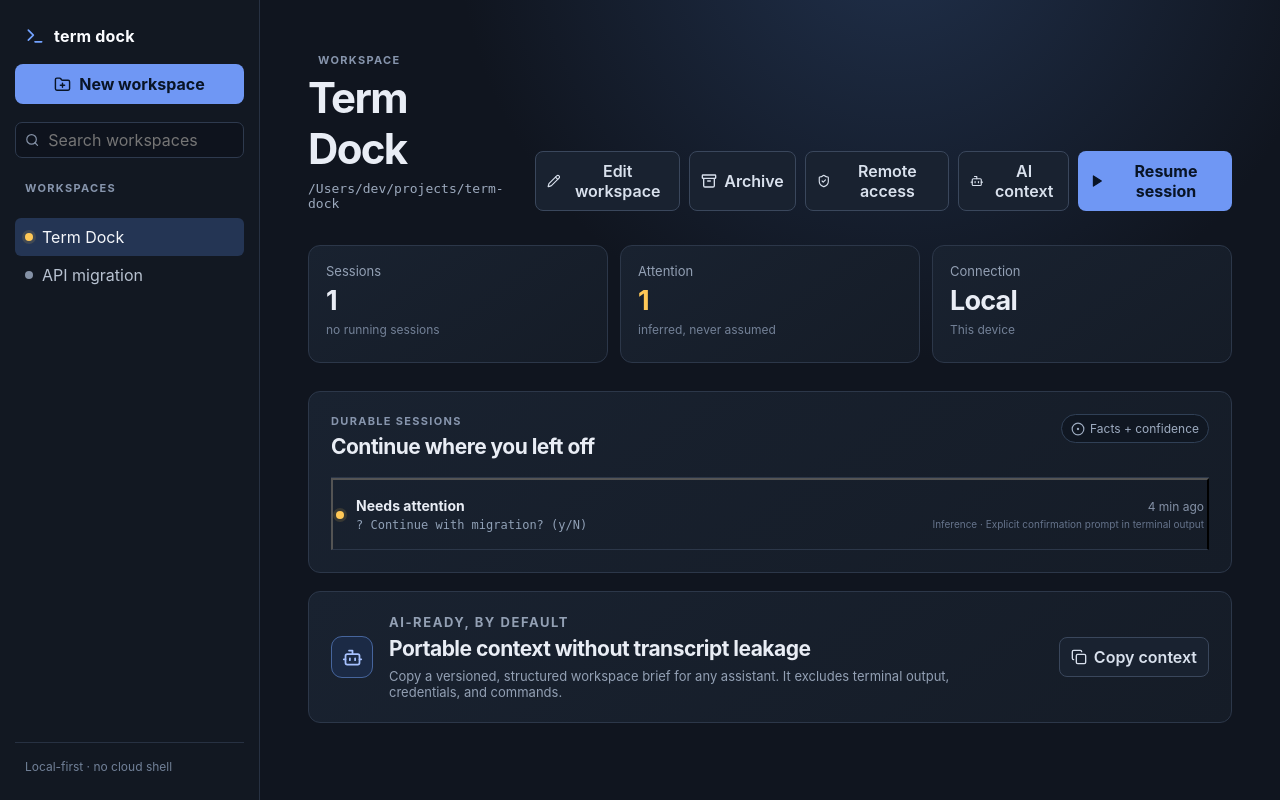
Test case: workspace dashboard › creates a workspace in the browser preview
Expected: the heading "Term Dock" is shown, [308,72,407,174]
Click the button "New workspace" at coordinates (130, 84), box [15,64,244,104]
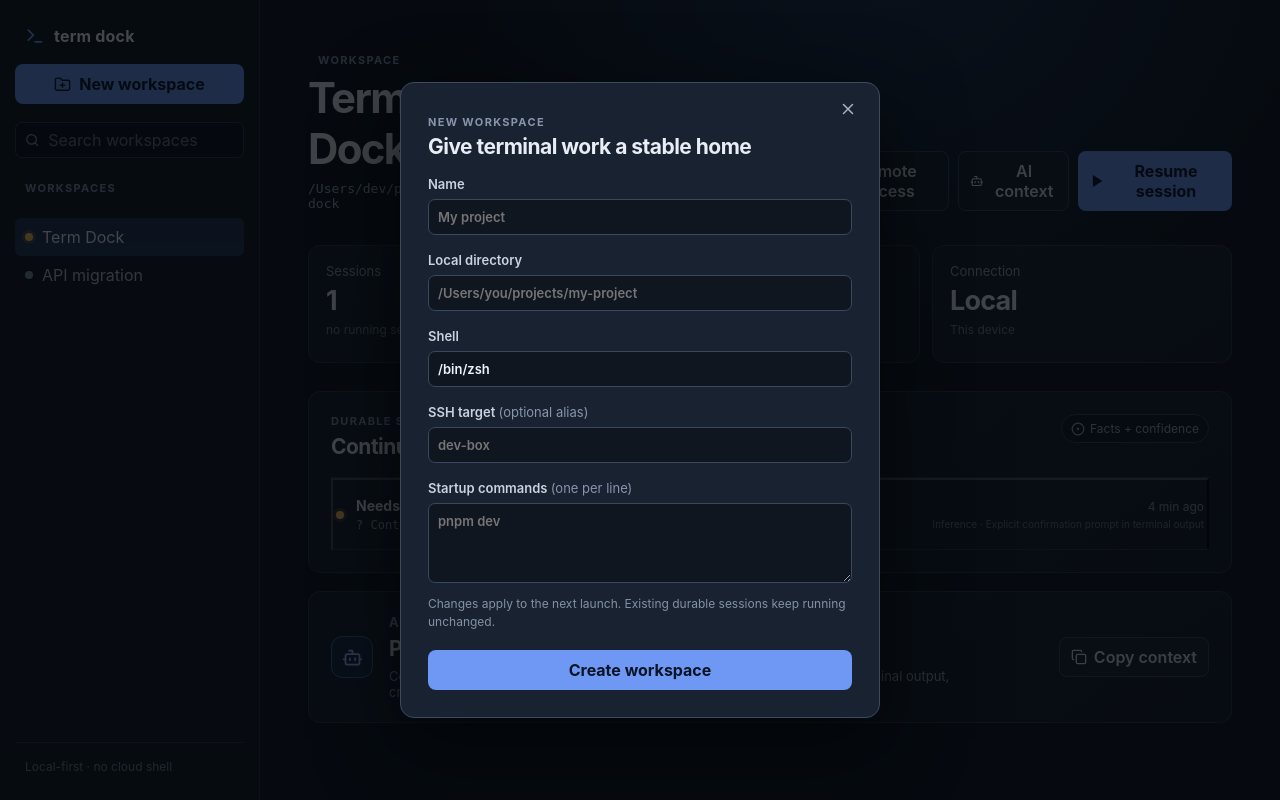
Type "Notes" into the field labelled "Name" at coordinates (640, 217), box [428,199,852,235]
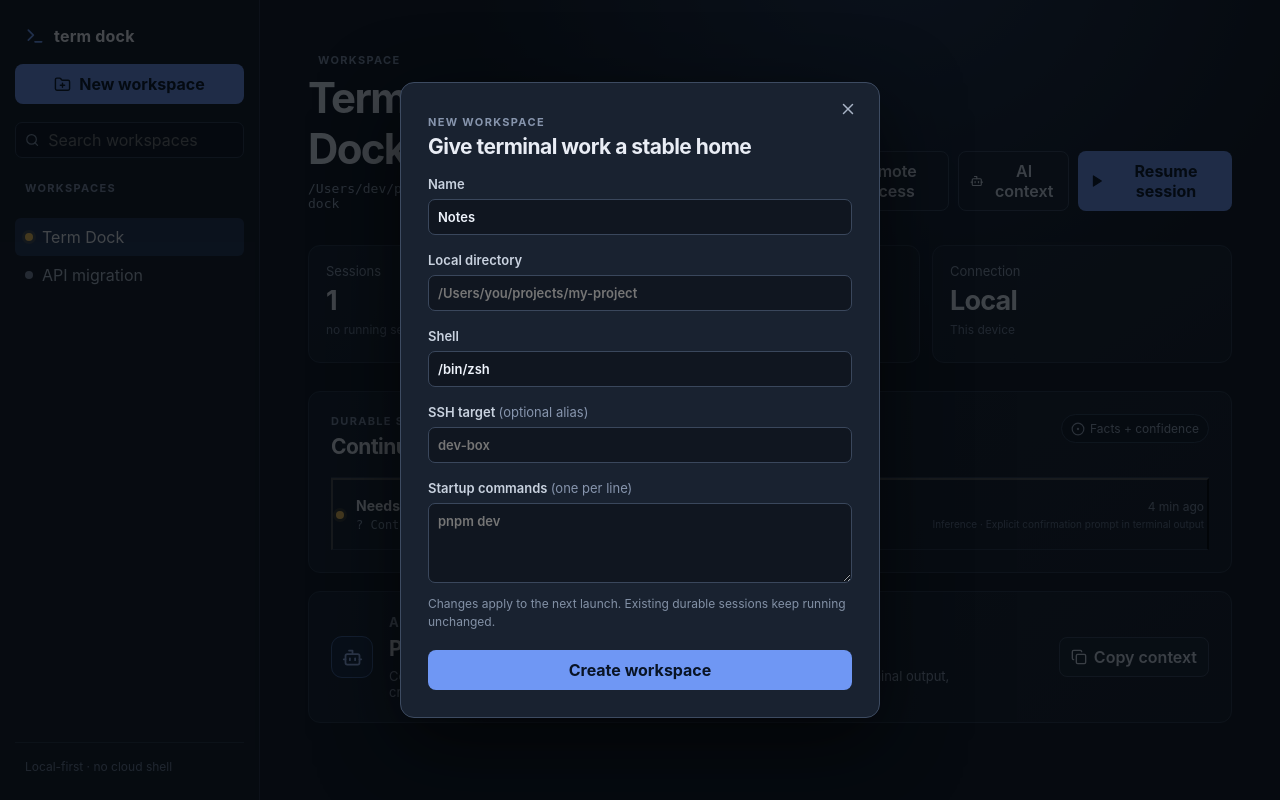
Type "/tmp/notes" into the field labelled "Local directory" at coordinates (640, 293), box [428,275,852,311]
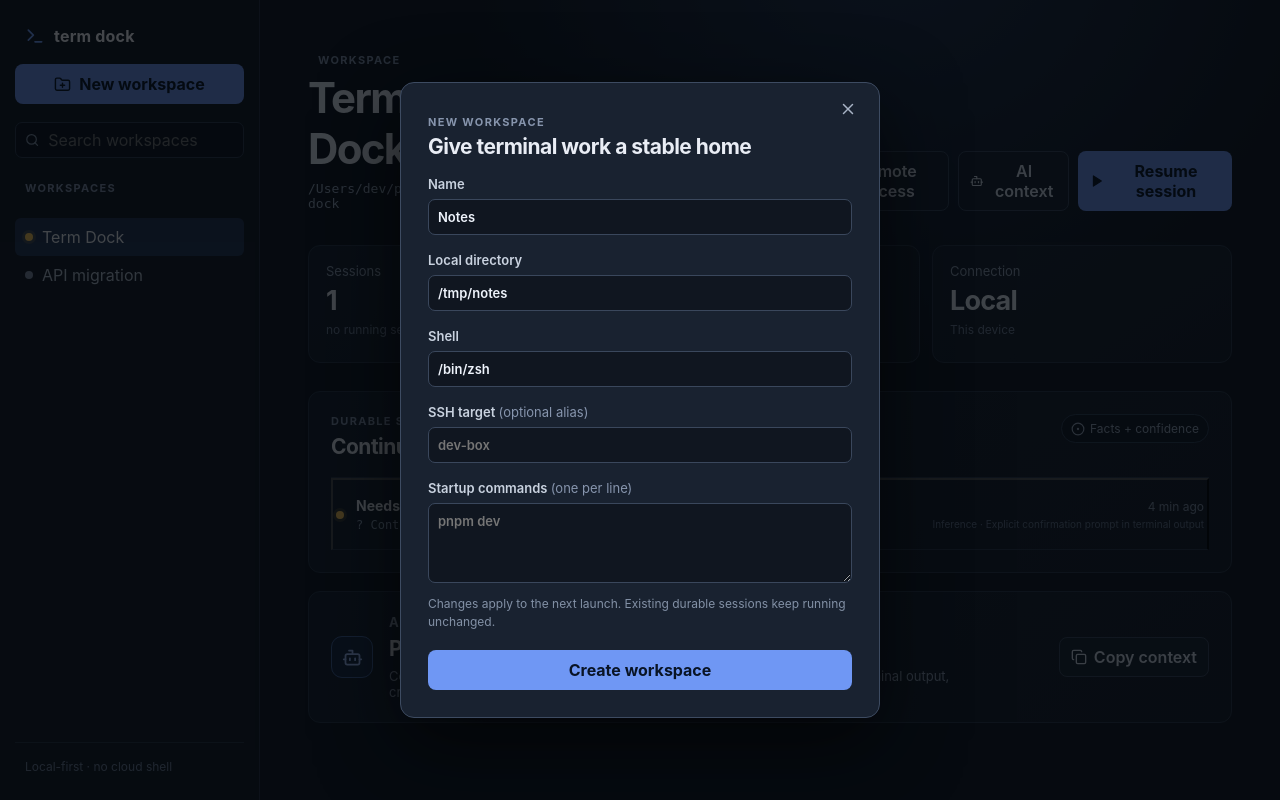
Click the button "Create workspace" at coordinates (640, 670), box [428,650,852,690]
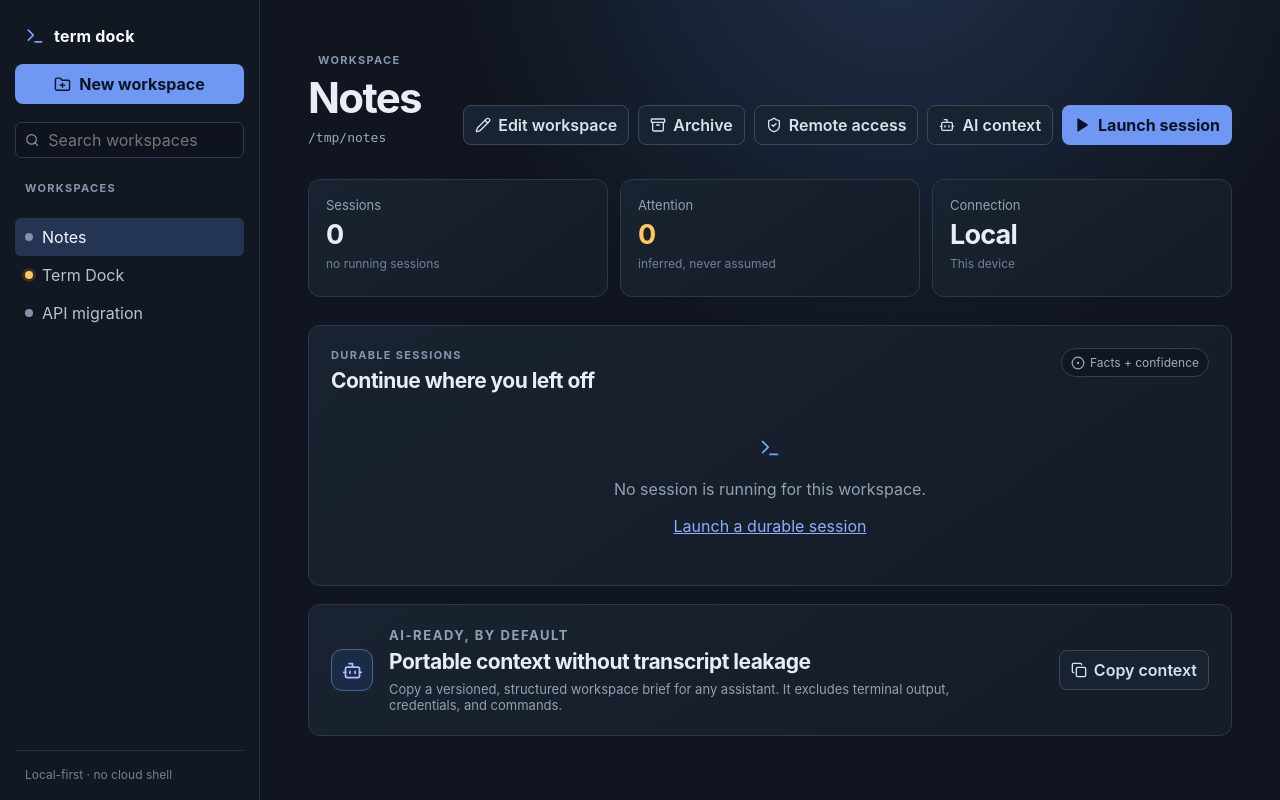
Result: the heading "Notes" is shown at [308,72,421,123]
